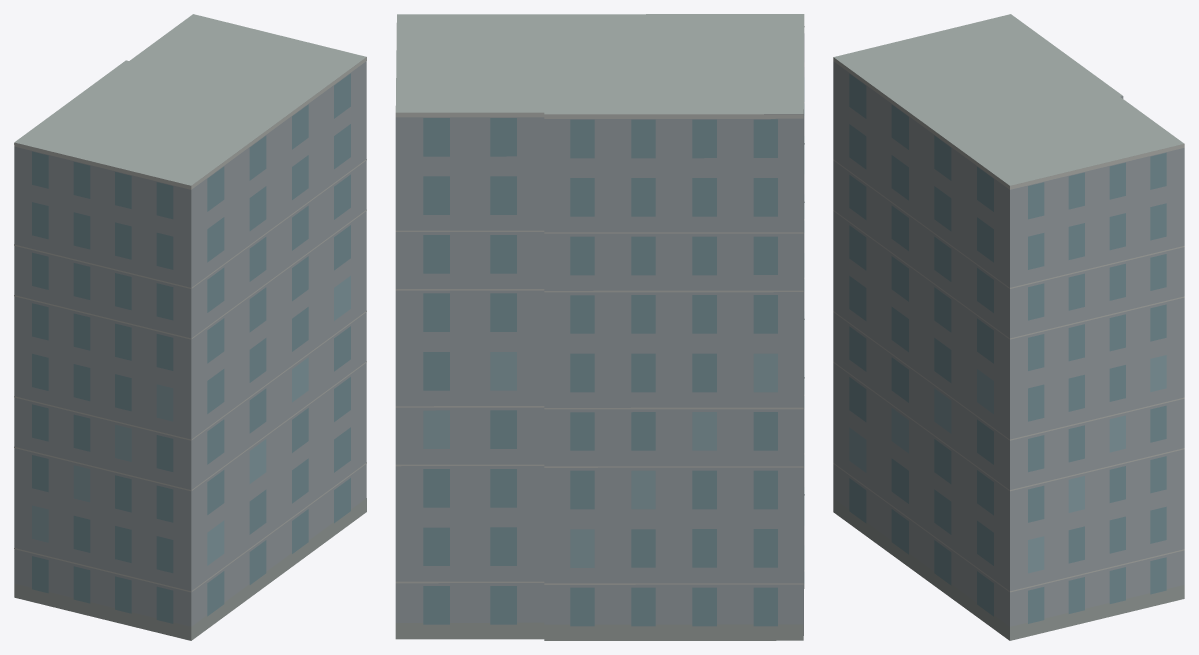
The model's file is survey-upis-32763706.glb.
The picture shows the model from 3 angles, left to right: view 1: azimuth 30°, elevation 25°; view 2: azimuth 150°, elevation 25°; view 3: azimuth 270°, elevation 25°; orthographic projection. The views are drawn at different scales.
Parts seen in each view (by area): view 1: survey-upis-32763706.tmp; view 2: survey-upis-32763706.tmp; view 3: survey-upis-32763706.tmp.
Boxes of the visible parts, box(x1,y1,x2,y2) form: survey-upis-32763706.tmp: box(14, 14, 366, 640); survey-upis-32763706.tmp: box(395, 14, 804, 640); survey-upis-32763706.tmp: box(833, 14, 1184, 640).
Size of the model in its own units: 22.17 by 27.35 by 19.15.
